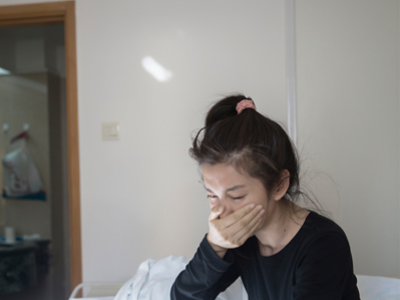face: (200, 161, 270, 239)
